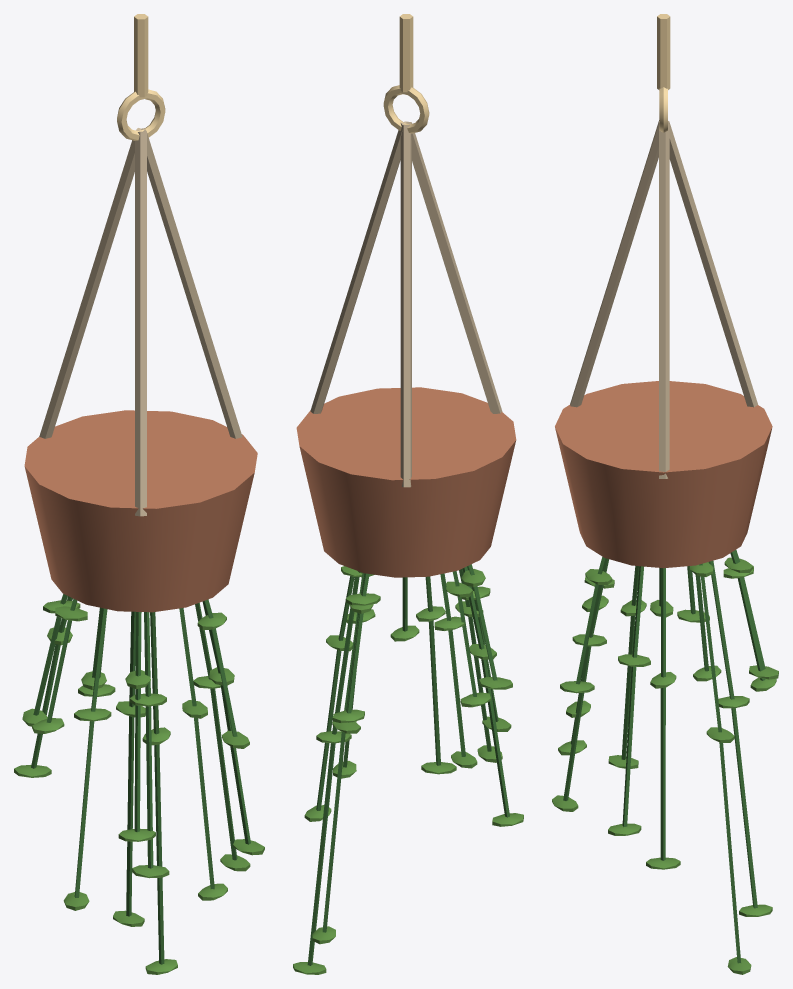
The model's file is hanging_plant_2.glb.
3 renders of one model, left to right at view 1: azimuth 30°, elevation 25°; view 2: azimuth 150°, elevation 25°; view 3: azimuth 270°, elevation 25°, orthographic. The views are drawn at different scales.
Parts seen in each view (by area): view 1: Hanging pot, Leaves, Hanger rope, Leaves light, Brass; view 2: Hanging pot, Hanger rope, Leaves, Leaves light, Brass; view 3: Hanging pot, Leaves, Hanger rope, Leaves light, Brass.
Boxes of the visible parts, box(x1,y1,x2,y2) form: Hanging pot: box(24, 410, 257, 612); Leaves: box(31, 594, 250, 964); Hanger rope: box(39, 128, 242, 516); Leaves light: box(14, 600, 264, 974); Brass: box(117, 14, 165, 140); Hanging pot: box(296, 387, 516, 577); Hanger rope: box(310, 121, 502, 487); Leaves: box(307, 564, 509, 965); Leaves light: box(293, 566, 523, 974); Brass: box(383, 14, 429, 133); Hanging pot: box(555, 381, 772, 568); Leaves: box(563, 550, 765, 963); Hanger rope: box(570, 120, 757, 478); Leaves light: box(552, 557, 778, 974); Brass: box(657, 14, 670, 132).
Size of the model in its own units: 0.2746 by 1.22 by 0.2708.
